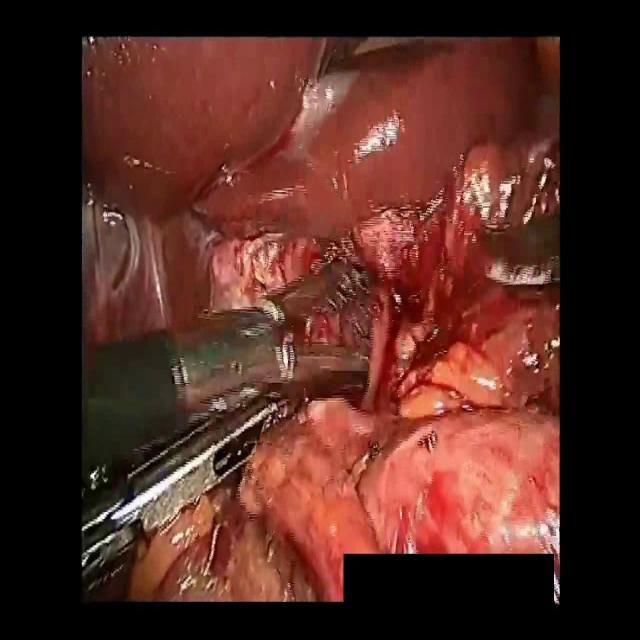surgical-area: (80, 40, 560, 600)
surgical-tool: (80, 251, 372, 571)
